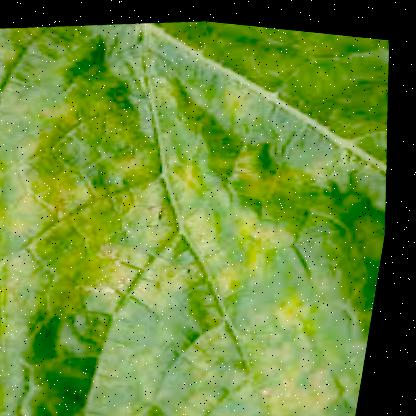DownyMildew: (0, 34, 382, 415)
